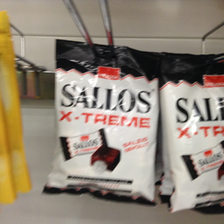candy: (56, 42, 159, 201), (161, 54, 223, 211)
